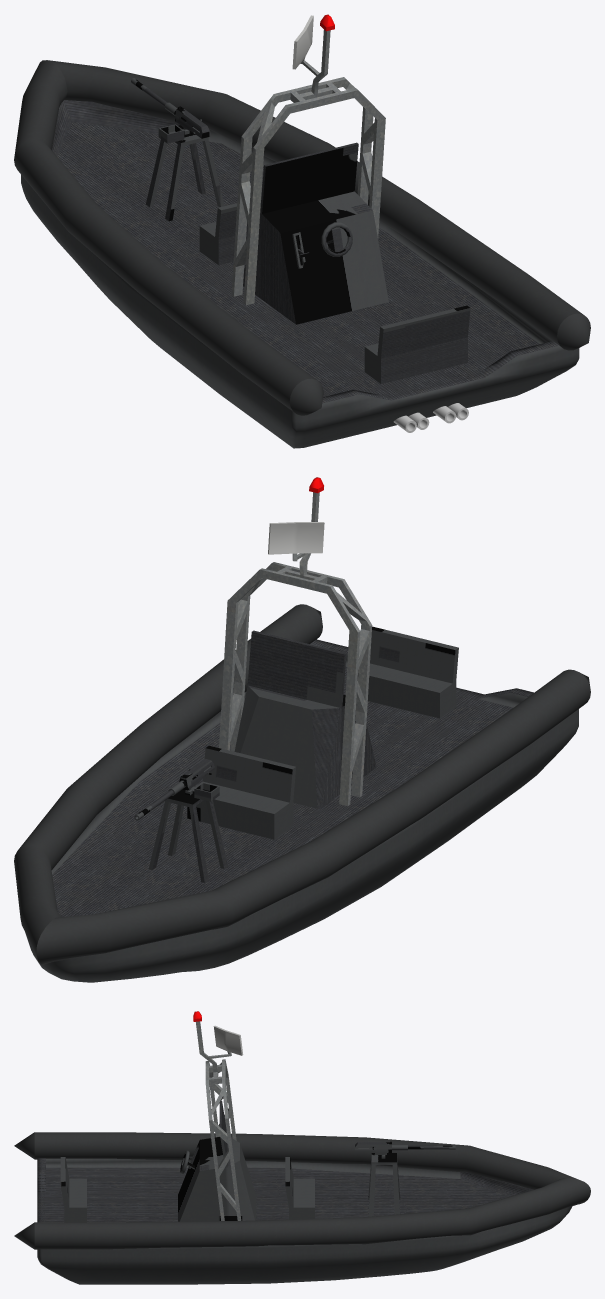
File: boatfinal.fbx
3 views of the same model, one above another, from view 1: azimuth 30°, elevation 25°; view 2: azimuth 150°, elevation 25°; view 3: azimuth 270°, elevation 25° (orthographic). The views are drawn at different scales.
Parts seen in each view (by area): view 1: base, rib, commandcontrol, steel, seat, bipod, seat1, engine4, steeringwheel, gunbase; view 2: base, rib, commandcontrol, steel, seat1, seat, bipod; view 3: base, rib, commandcontrol, steel, seat1, seat, bipod, gunbase.
Boxes of the visible parts, bbox=[...] form: base: bbox=[21, 100, 579, 448]; rib: bbox=[14, 60, 590, 415]; commandcontrol: bbox=[243, 142, 388, 324]; steel: bbox=[231, 14, 385, 305]; seat: bbox=[364, 305, 470, 383]; bipod: bbox=[145, 125, 224, 221]; seat1: bbox=[199, 198, 261, 265]; engine4: bbox=[393, 403, 468, 432]; steeringwheel: bbox=[321, 222, 352, 256]; gunbase: bbox=[175, 106, 210, 138]; base: bbox=[25, 639, 578, 982]; rib: bbox=[14, 604, 590, 964]; commandcontrol: bbox=[234, 630, 376, 808]; steel: bbox=[219, 477, 372, 806]; seat1: bbox=[187, 745, 295, 839]; seat: bbox=[357, 626, 458, 718]; bipod: bbox=[148, 786, 227, 882]; base: bbox=[37, 1158, 572, 1284]; rib: bbox=[14, 1132, 590, 1249]; commandcontrol: bbox=[178, 1101, 256, 1221]; steel: bbox=[193, 1011, 243, 1220]; seat1: bbox=[285, 1157, 314, 1219]; seat: bbox=[60, 1157, 86, 1222]; bipod: bbox=[368, 1153, 400, 1216]; gunbase: bbox=[355, 1141, 391, 1152].
Bounding box in the file's own units: 11.56 × 12.63 × 27.74.
